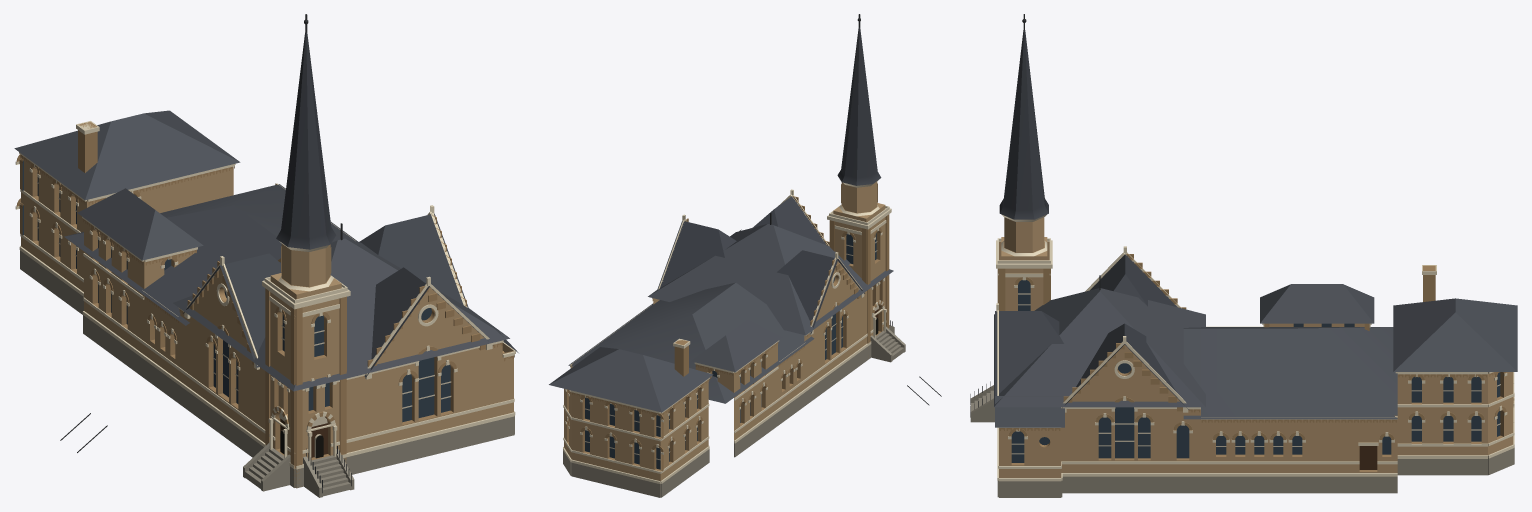
File: ch-first-christian-1913.glb
The picture shows the model from 3 angles, left to right: view 1: azimuth 30°, elevation 25°; view 2: azimuth 150°, elevation 25°; view 3: azimuth 270°, elevation 25°; orthographic projection. The views are drawn at different scales.
Visible parts, largest first — view 1: ch_brick, ch_slate, ch_slate2, ch_brick2, ch_trim, ch_base, ch_stain; view 2: ch_slate, ch_brick, ch_slate2, ch_brick2, ch_trim, ch_base, ch_stain; view 3: ch_slate, ch_brick, ch_slate2, ch_base, ch_trim, ch_stain, ch_brick2.
Boxes of the visible parts, x1=… form: ch_brick: x1=21, y1=156, x2=513, y2=463; ch_slate: x1=14, y1=110, x2=518, y2=391; ch_slate2: x1=183, y1=32, x2=493, y2=377; ch_brick2: x1=16, y1=122, x2=514, y2=487; ch_trim: x1=15, y1=121, x2=515, y2=469; ch_base: x1=20, y1=250, x2=514, y2=497; ch_stain: x1=22, y1=160, x2=450, y2=422; ch_slate: x1=549, y1=224, x2=893, y2=412; ch_brick: x1=564, y1=181, x2=885, y2=481; ch_slate2: x1=657, y1=27, x2=881, y2=333; ch_brick2: x1=565, y1=196, x2=889, y2=471; ch_trim: x1=563, y1=180, x2=891, y2=483; ch_base: x1=563, y1=325, x2=905, y2=497; ch_stain: x1=585, y1=233, x2=876, y2=469; ch_slate: x1=994, y1=284, x2=1517, y2=427; ch_brick: x1=999, y1=217, x2=1513, y2=477; ch_slate2: x1=995, y1=30, x2=1189, y2=409; ch_base: x1=970, y1=385, x2=1514, y2=497; ch_trim: x1=996, y1=214, x2=1514, y2=481; ch_stain: x1=1011, y1=280, x2=1500, y2=462; ch_brick2: x1=997, y1=254, x2=1513, y2=471.
Size of the model in its own units: 29.3 by 34.8 by 43.11.
